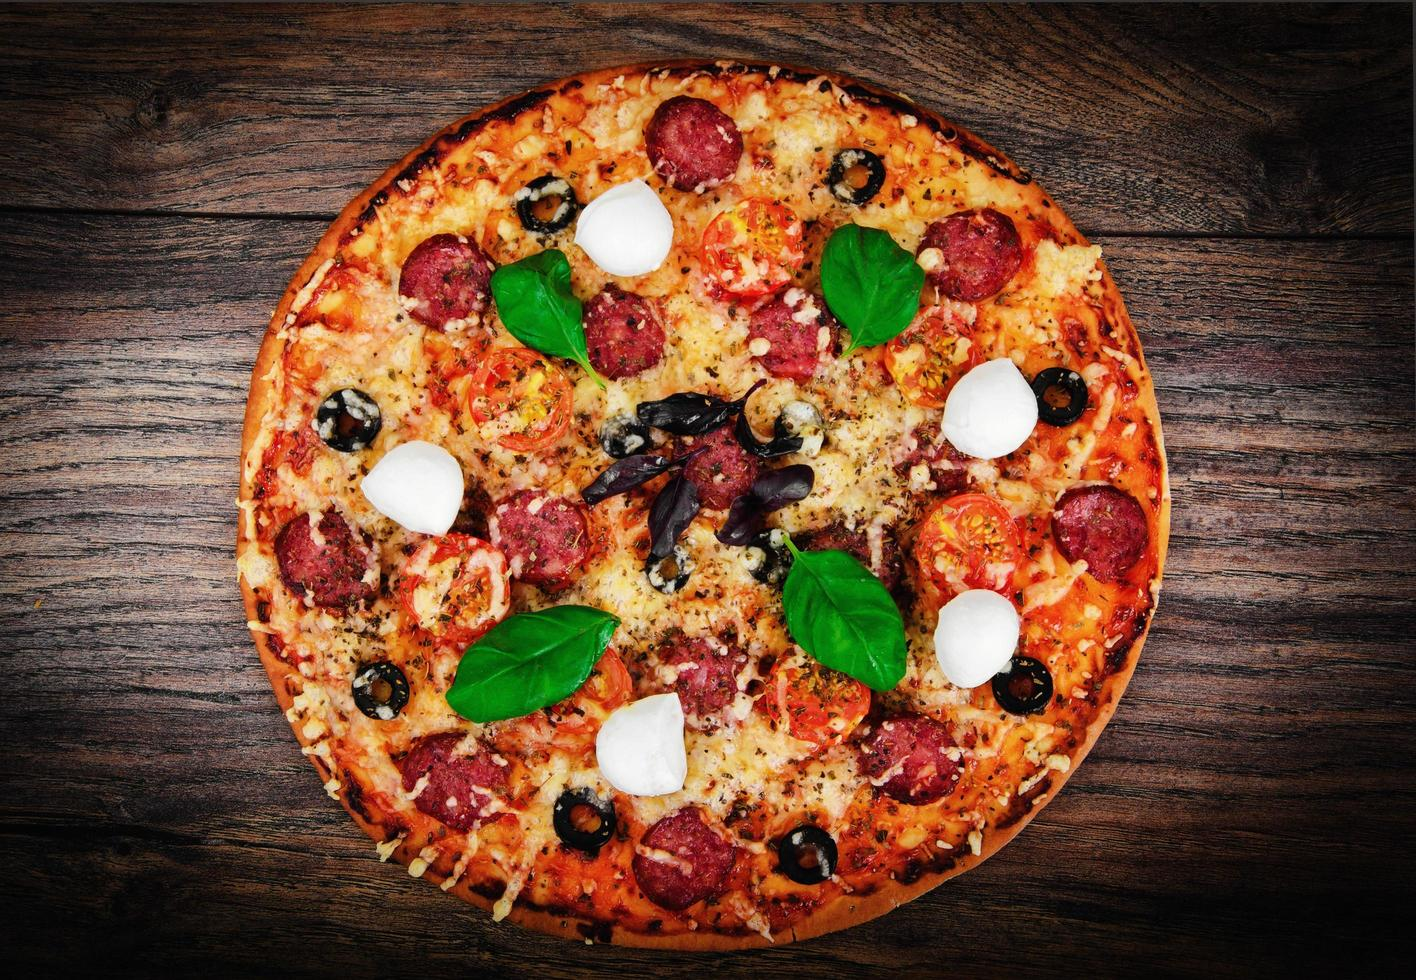Olives: (309, 387, 383, 450), (508, 175, 582, 235), (342, 658, 412, 718), (549, 794, 618, 851), (776, 824, 838, 884), (986, 658, 1051, 715), (824, 147, 888, 200), (1030, 366, 1081, 426), (601, 407, 647, 453), (647, 545, 689, 590)
Pepperoni: (642, 616, 763, 724), (277, 505, 383, 607), (634, 800, 738, 901), (672, 410, 776, 511), (1047, 478, 1144, 579), (398, 227, 494, 328), (861, 712, 962, 805), (916, 208, 1017, 300), (749, 286, 845, 383), (639, 101, 748, 185), (488, 497, 591, 581), (403, 739, 511, 819), (579, 282, 667, 377)
Pizza: (232, 63, 1164, 952)
